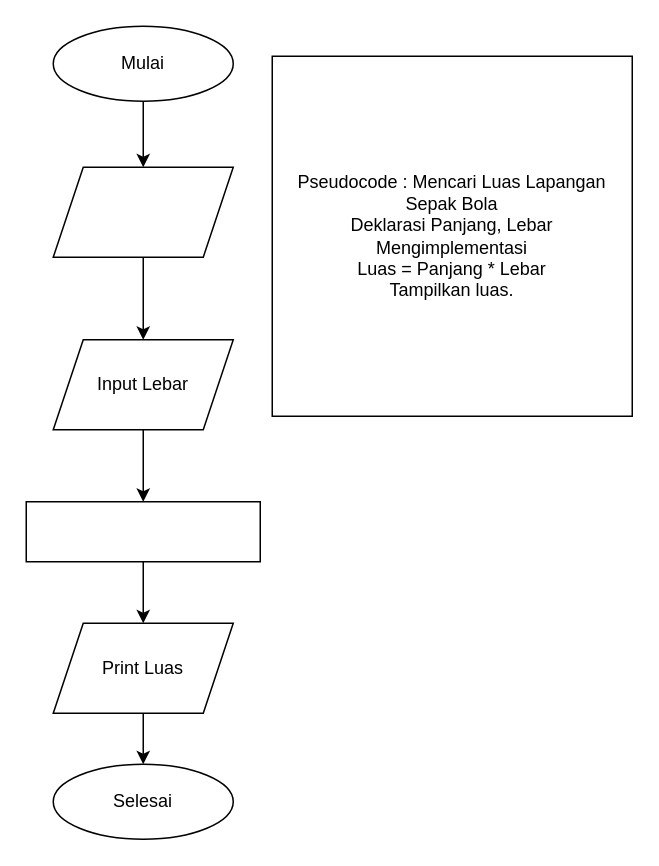
The diagram is 659 pixels wide and 866 high, and some of its shapes have lost their labels. Each missing label, with the centre of its shape:
"Input Panjang" goes at (142,211).
"Luas = Panjang * Lebar" goes at (142,531).
